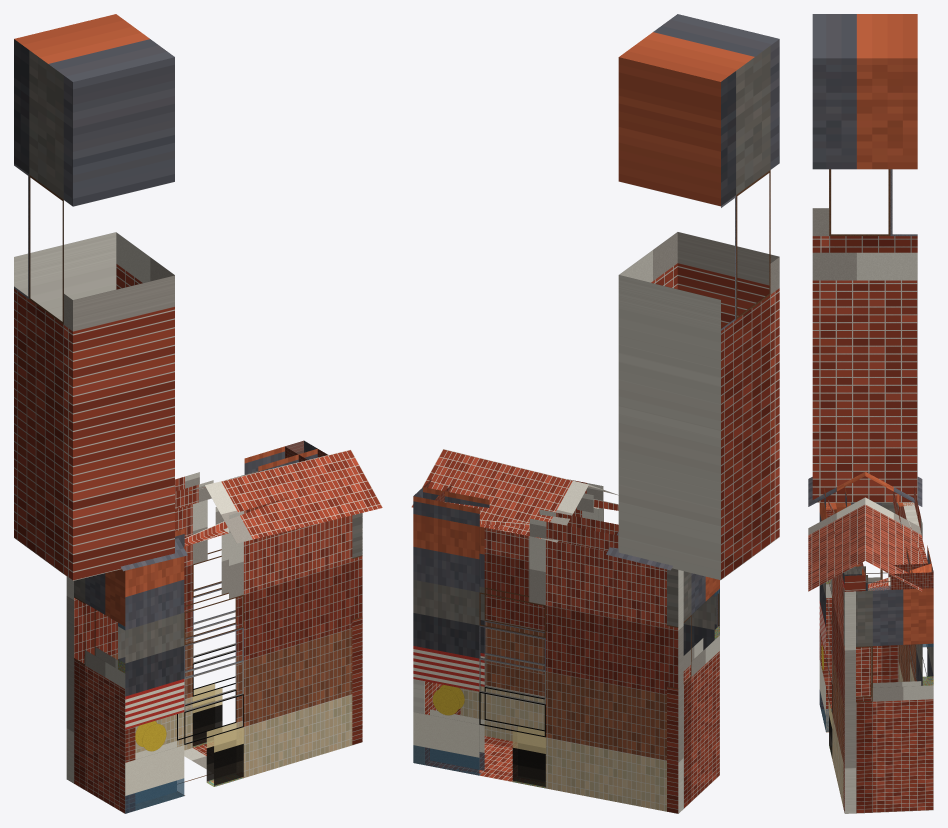
The picture shows the model from 3 angles, left to right: view 1: azimuth 30°, elevation 25°; view 2: azimuth 150°, elevation 25°; view 3: azimuth 270°, elevation 25°; orthographic projection. The views are drawn at different scales.
Visible parts, largest first — view 1: 717954313__chimney_0_xb, 717954313__wall_0_xb, 717954313_roof_-1_xb, 717954313__wall_3_xb, 717954313__wall_2_xb, 717954313__wall_0_xf, 717954313__cornice_2, 717954313__wall_1_xb, 717954313__wall_2_xf, 717954313__cornice_0, 717954313__base; view 2: 717954313__chimney_0_xb, 717954313__wall_2_xb, 717954313__wall_0_xb, 717954313__wall_3_xb, 717954313_roof_1_xb, 717954313__cornice_2, 717954313__wall_2_xf, 717954313__base, 717954313__wall_1_xb, 717954313__cornice_0; view 3: 717954313__chimney_0_xb, 717954313__wall_1_xb, 717954313__wall_0_xb, 717954313_roof_-1_xb, 717954313_roof_1_xb, 717954313__wall_3_xb, 717954313__wall_2_xb, 717954313__cornice_1, 717954313__cornice_0, 717954313__cornice_2.
Part boxes in pixels (left/top/right/bottom): 717954313__chimney_0_xb: left=14, top=14, right=174, bottom=580; 717954313__wall_0_xb: left=118, top=515, right=362, bottom=813; 717954313_roof_-1_xb: left=121, top=449, right=382, bottom=571; 717954313__wall_3_xb: left=74, top=569, right=135, bottom=813; 717954313__wall_2_xb: left=66, top=500, right=235, bottom=783; 717954313__wall_0_xf: left=118, top=623, right=243, bottom=813; 717954313__cornice_2: left=175, top=440, right=317, bottom=509; 717954313__wall_1_xb: left=352, top=513, right=362, bottom=745; 717954313__wall_2_xf: left=193, top=684, right=221, bottom=747; 717954313__cornice_0: left=175, top=496, right=290, bottom=546; 717954313__base: left=135, top=742, right=213, bottom=809; 717954313__chimney_0_xb: left=618, top=14, right=779, bottom=580; 717954313__wall_2_xb: left=413, top=514, right=683, bottom=813; 717954313__wall_0_xb: left=461, top=507, right=719, bottom=741; 717954313__wall_3_xb: left=667, top=568, right=719, bottom=813; 717954313_roof_1_xb: left=411, top=449, right=672, bottom=570; 717954313__cornice_2: left=413, top=487, right=618, bottom=551; 717954313__wall_2_xf: left=413, top=726, right=545, bottom=787; 717954313__base: left=426, top=736, right=516, bottom=781; 717954313__wall_1_xb: left=413, top=679, right=460, bottom=764; 717954313__cornice_0: left=568, top=479, right=618, bottom=512; 717954313__chimney_0_xb: left=812, top=14, right=917, bottom=502; 717954313__wall_1_xb: left=843, top=585, right=933, bottom=813; 717954313__wall_0_xb: left=819, top=502, right=855, bottom=813; 717954313_roof_-1_xb: left=808, top=472, right=865, bottom=591; 717954313_roof_1_xb: left=865, top=472, right=922, bottom=591; 717954313__wall_3_xb: left=819, top=502, right=898, bottom=709; 717954313__wall_2_xb: left=898, top=502, right=933, bottom=685; 717954313__cornice_1: left=842, top=563, right=933, bottom=590; 717954313__cornice_0: left=824, top=487, right=865, bottom=591; 717954313__cornice_2: left=893, top=487, right=931, bottom=573.
Bounding box in the file's own units: 0.4515 × 1.05 × 0.1791.
Materials: 1 (1 with a texture image).
